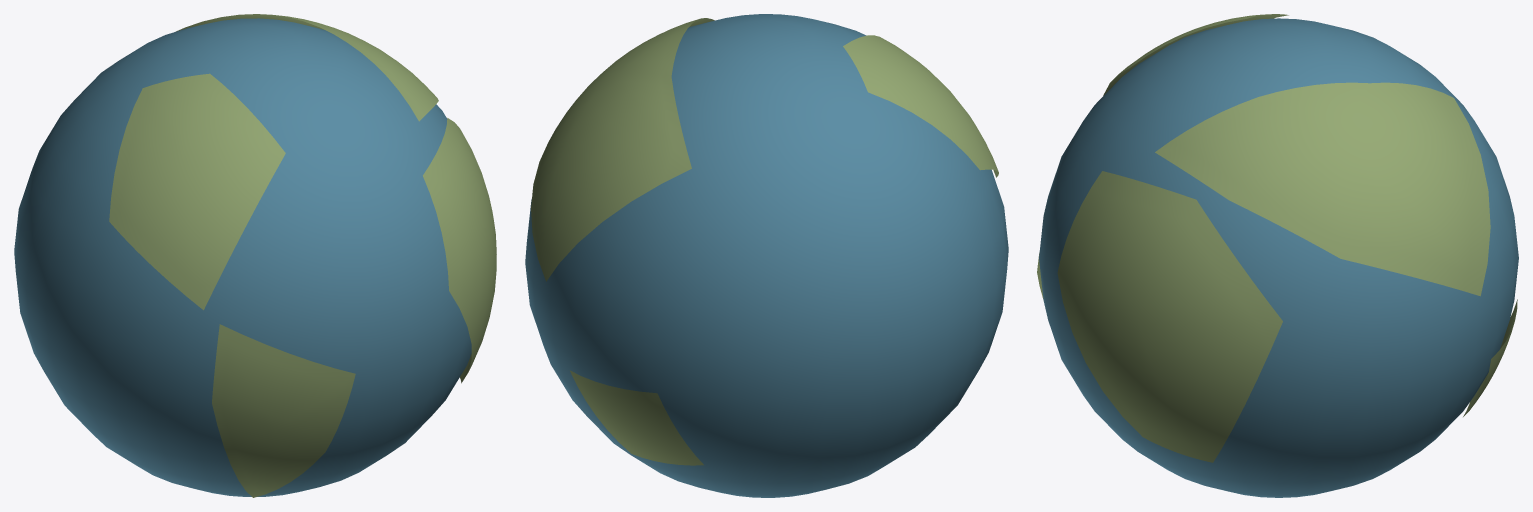
Rendered from planet_earth.glb.
3 views of the same model, side by side, from view 1: azimuth 30°, elevation 25°; view 2: azimuth 150°, elevation 25°; view 3: azimuth 270°, elevation 25° (orthographic).
Parts seen in each view (by area): view 1: body; view 2: body; view 3: body.
Boxes of the visible parts, bbox=[...] form: body: bbox=[14, 14, 496, 497]; body: bbox=[525, 14, 1008, 497]; body: bbox=[1037, 14, 1518, 497].
Bounding box in the file's own units: 1.71 × 1.7 × 1.71.
